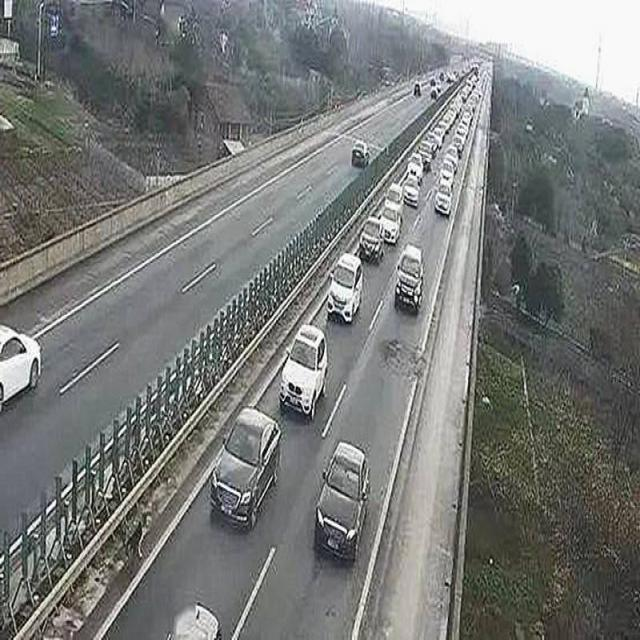point: (376, 15, 506, 194)
